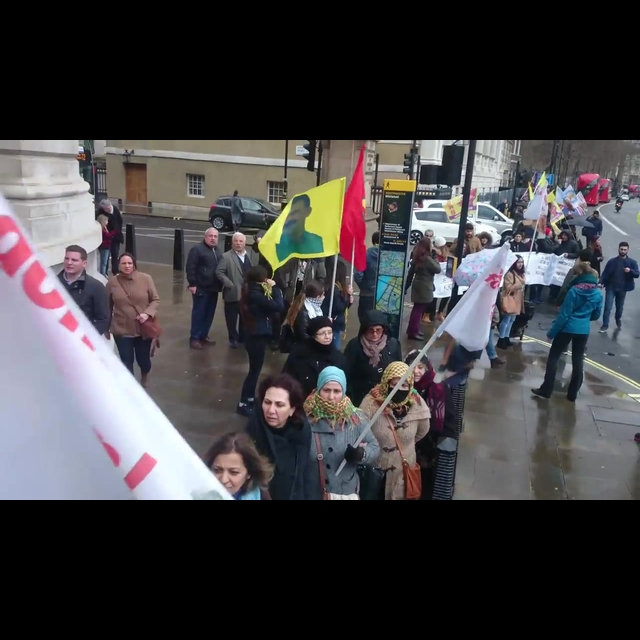APO: (279, 199, 319, 246)
